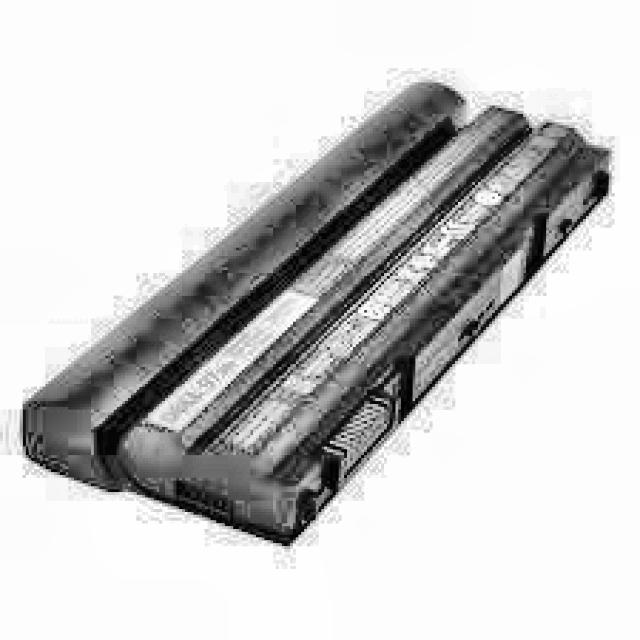Battery: (22, 82, 612, 552)
